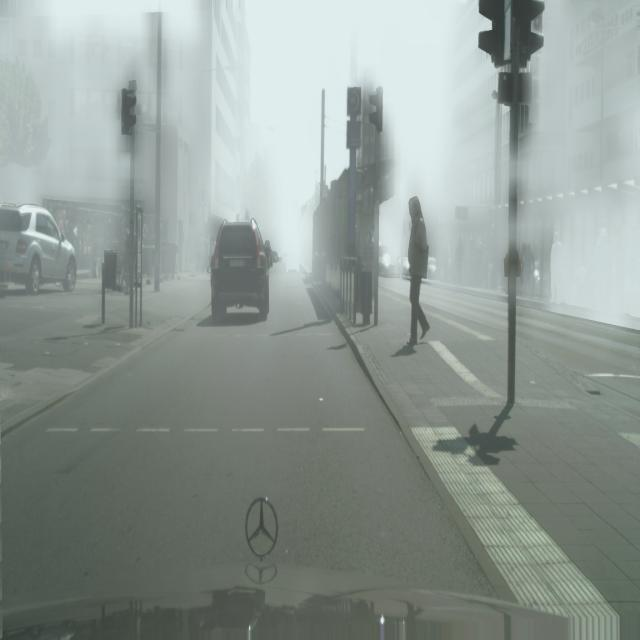person: (406, 195, 430, 346), (592, 228, 610, 311), (550, 231, 564, 304), (611, 239, 625, 312), (522, 244, 532, 295), (455, 236, 464, 285), (195, 229, 204, 272), (442, 243, 449, 282)
truck: (0, 202, 77, 296), (210, 219, 270, 324)
